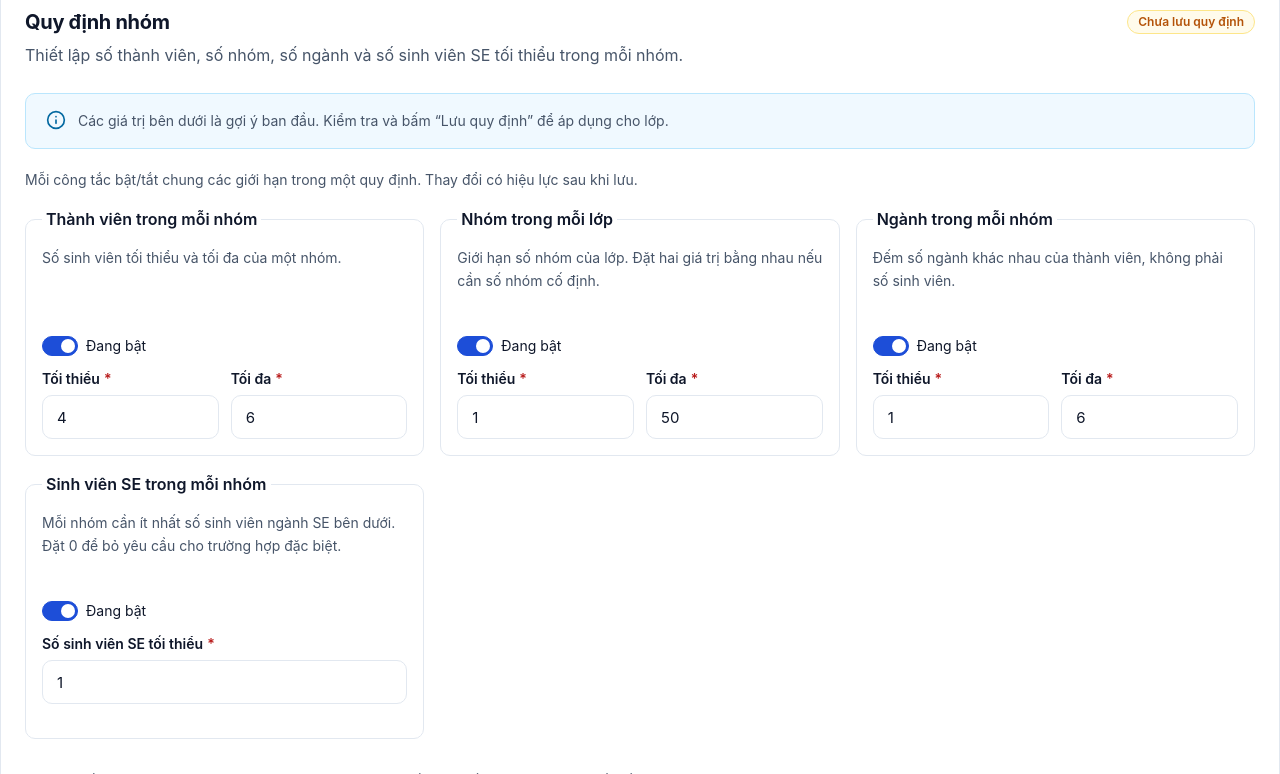
Test: Class grouping rules workflow › toggles all limits of majors together and revalidates when enabled
Replace the text in the number field labelled "Tối đa*" below "Thành viên trong mỗi nhóm" with "100" at (319, 417), box top-left (231, 395), bottom-right (407, 439)
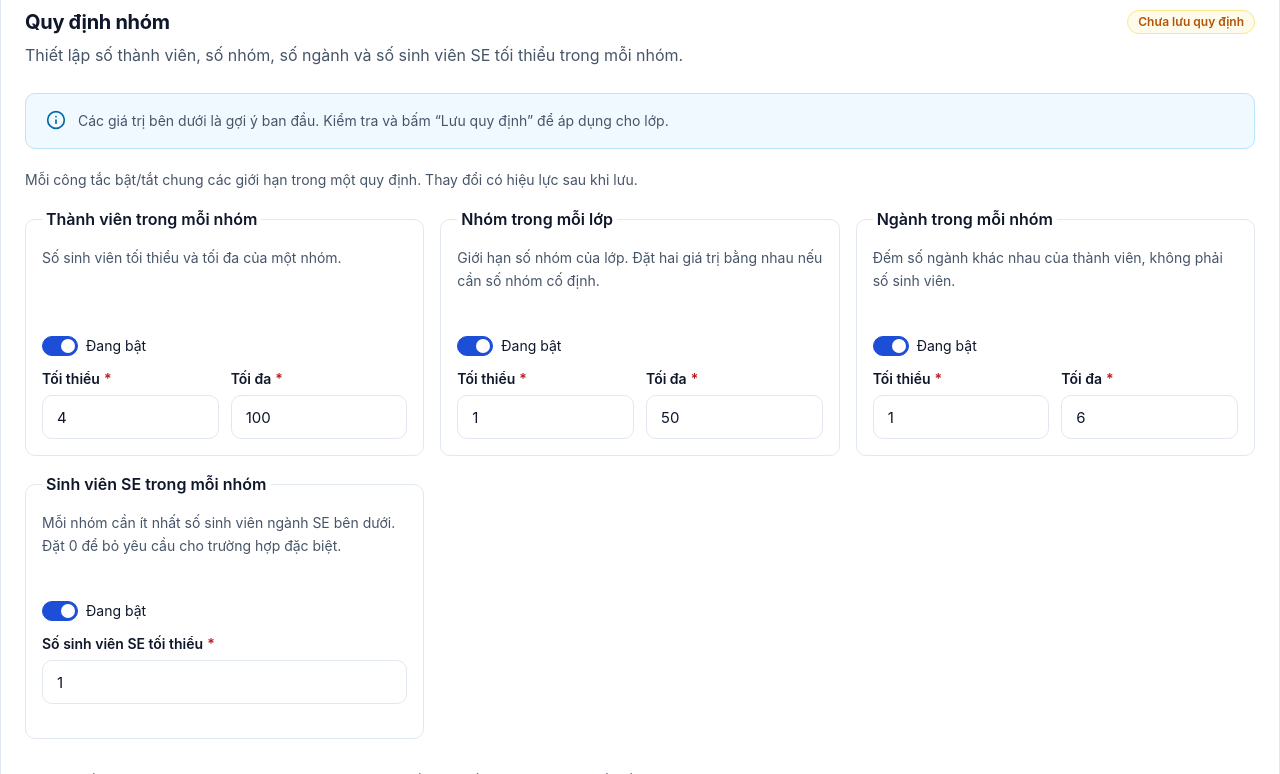
Replace the text in the number field labelled "Tối thiểu*" below "Ngành trong mỗi nhóm" with "8" at (961, 417), box top-left (873, 395), bottom-right (1049, 439)
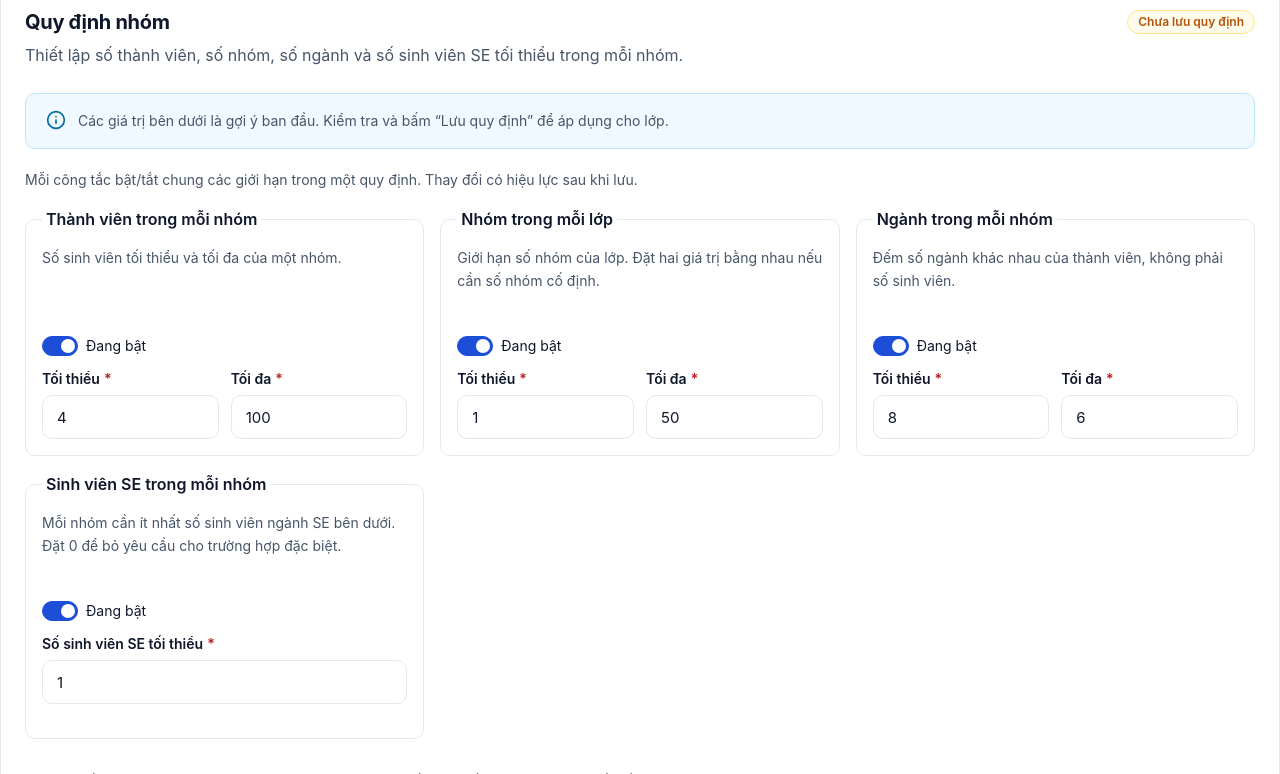
Click the switch labelled "Đang bật" below "Ngành trong mỗi nhóm" at (891, 346), box top-left (873, 336), bottom-right (909, 356)
(page scrolled)
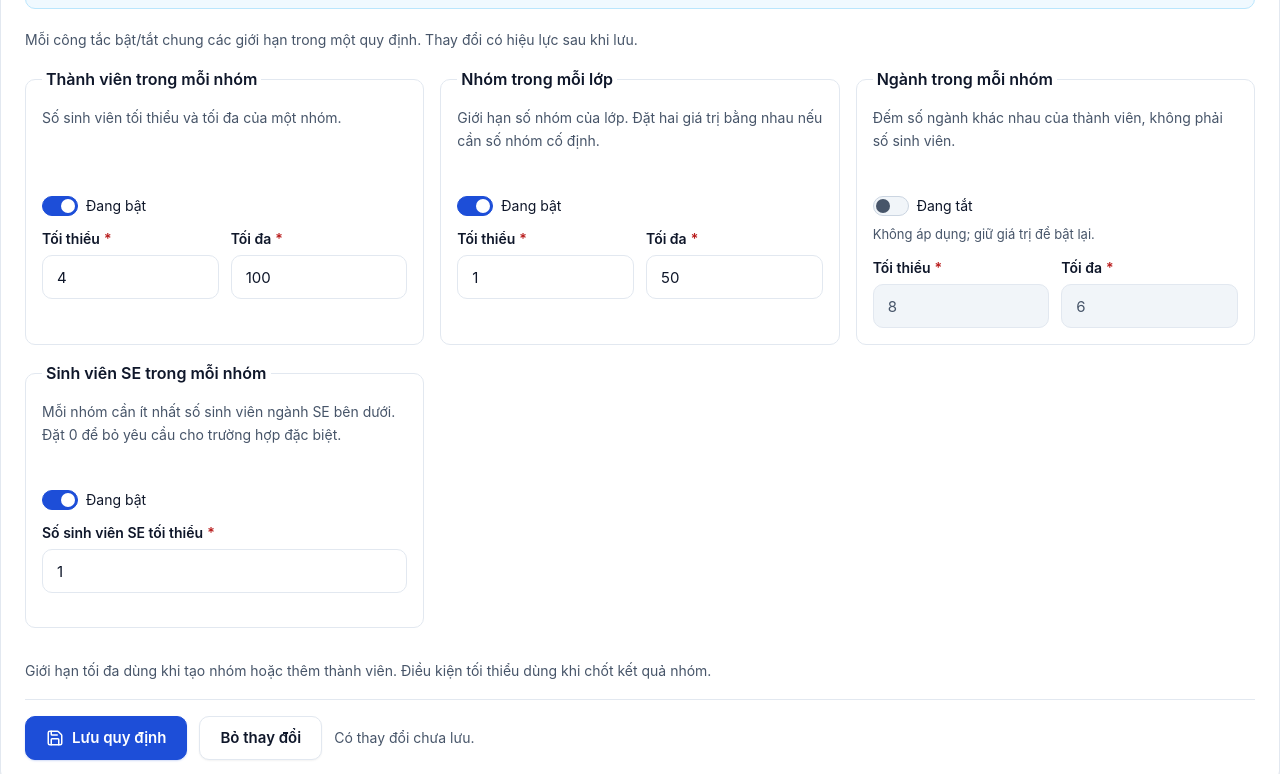
Click the button "Lưu quy định" at (106, 738), box top-left (25, 716), bottom-right (188, 760)
(page scrolled)
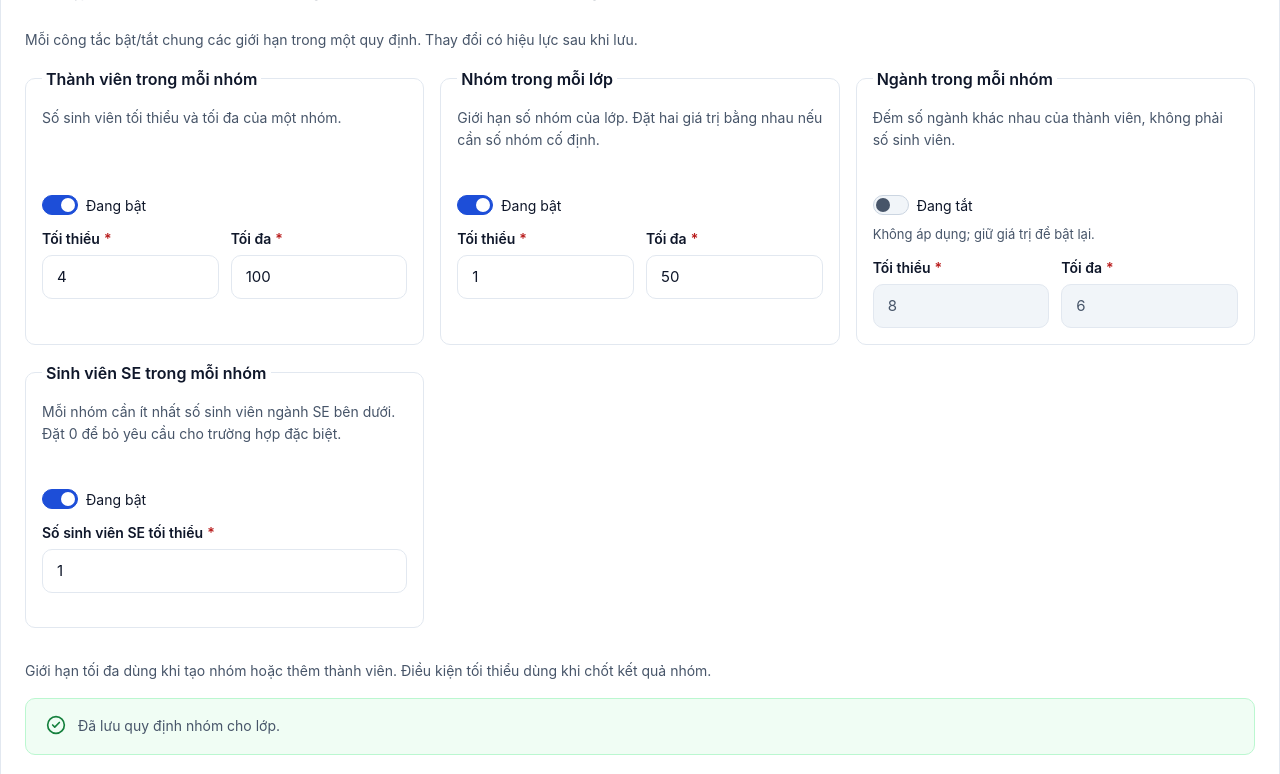
Now the text "Đã lưu quy định nhóm cho lớp." is shown, box top-left (78, 715), bottom-right (280, 738)
Click the switch labelled "Đang tắt" at (891, 206), box top-left (873, 196), bottom-right (909, 216)
(page scrolled)
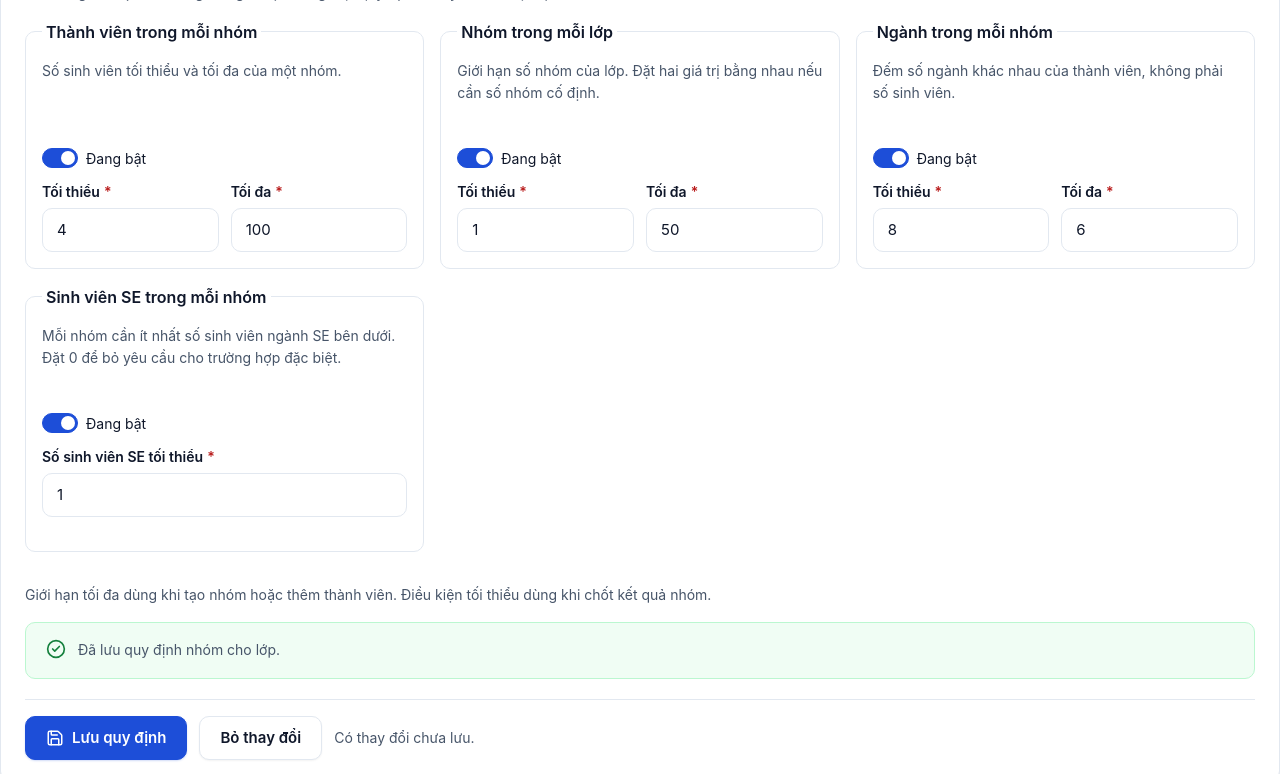
Click the button "Lưu quy định" at (106, 738), box top-left (25, 716), bottom-right (188, 760)
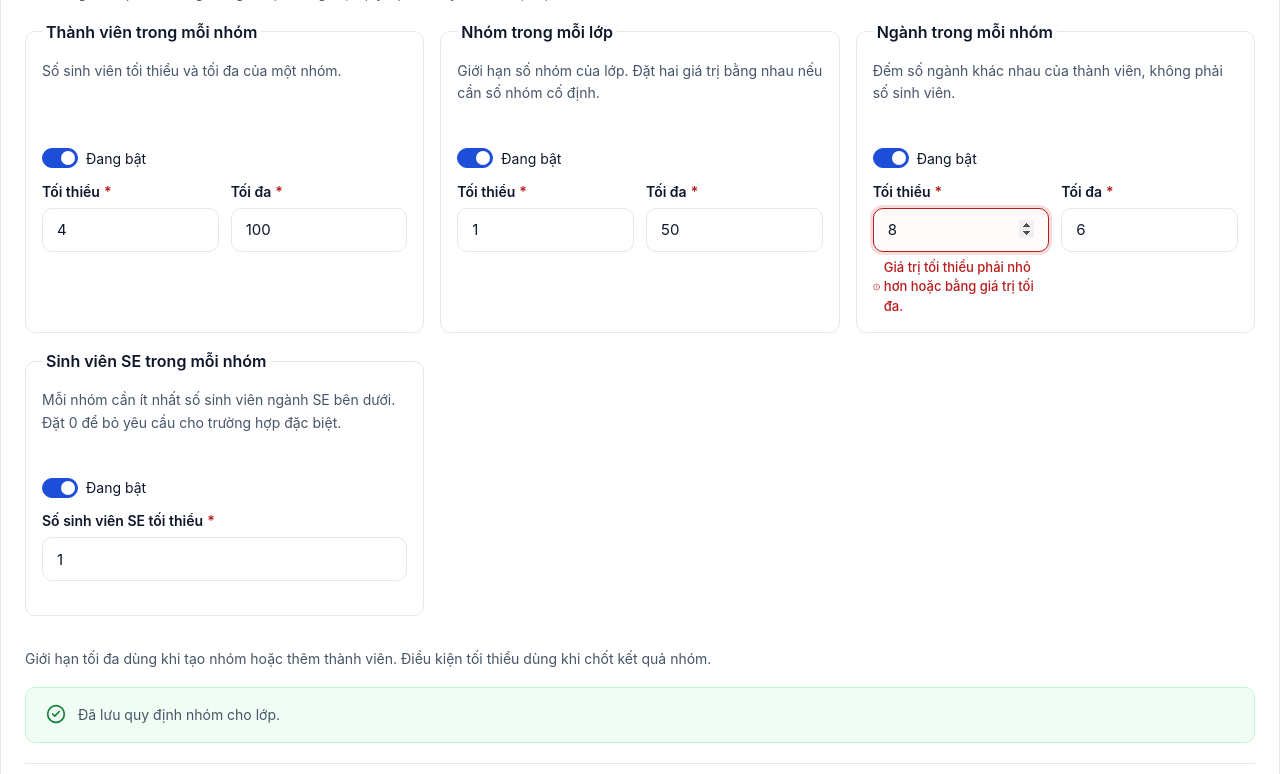
Now the text "Giá trị tối thiểu phải nhỏ hơn hoặc bằng giá trị tối đa." is shown, box top-left (884, 258), bottom-right (1049, 316)
